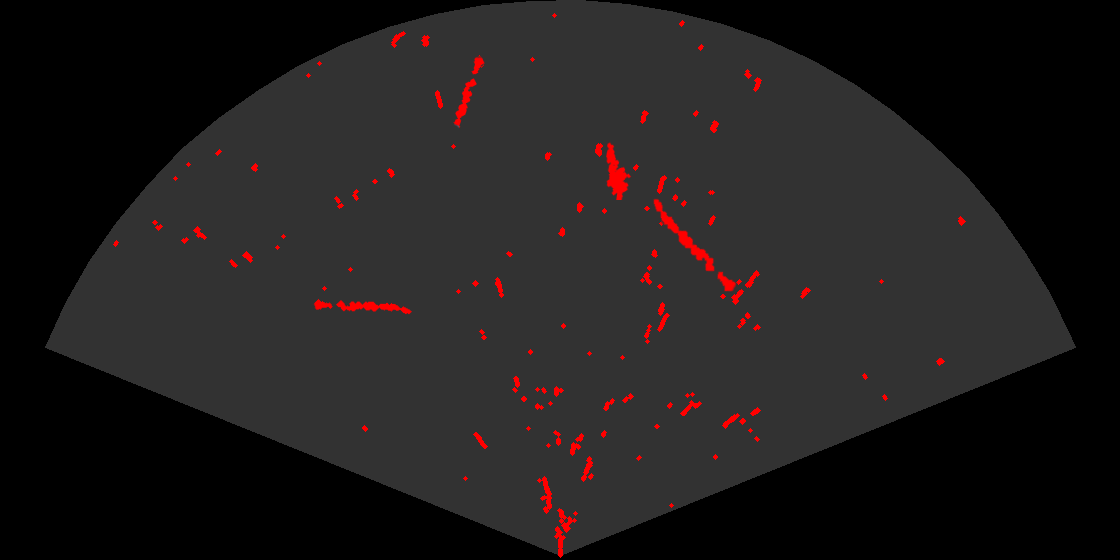chain: (652, 197, 738, 293), (452, 55, 486, 129), (312, 297, 412, 316)
frogman: (605, 141, 633, 200)
